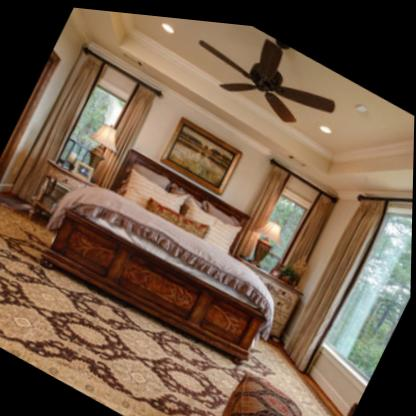Curtains: (284, 191, 385, 366), (10, 50, 102, 200)
